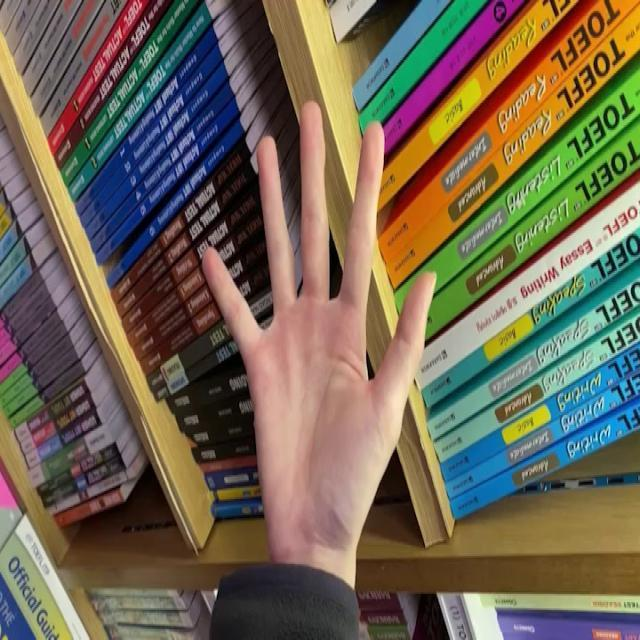hand: (199, 96, 439, 564)
